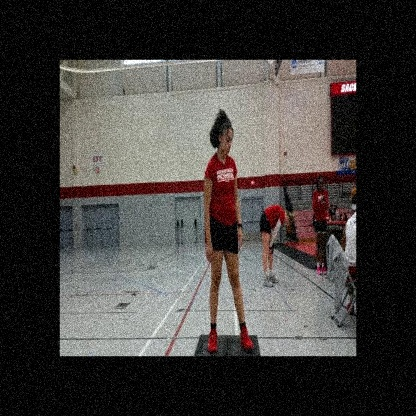lateral_flexion_normal: (202, 110, 254, 354)
stance_width_broad: (203, 149, 253, 353)
